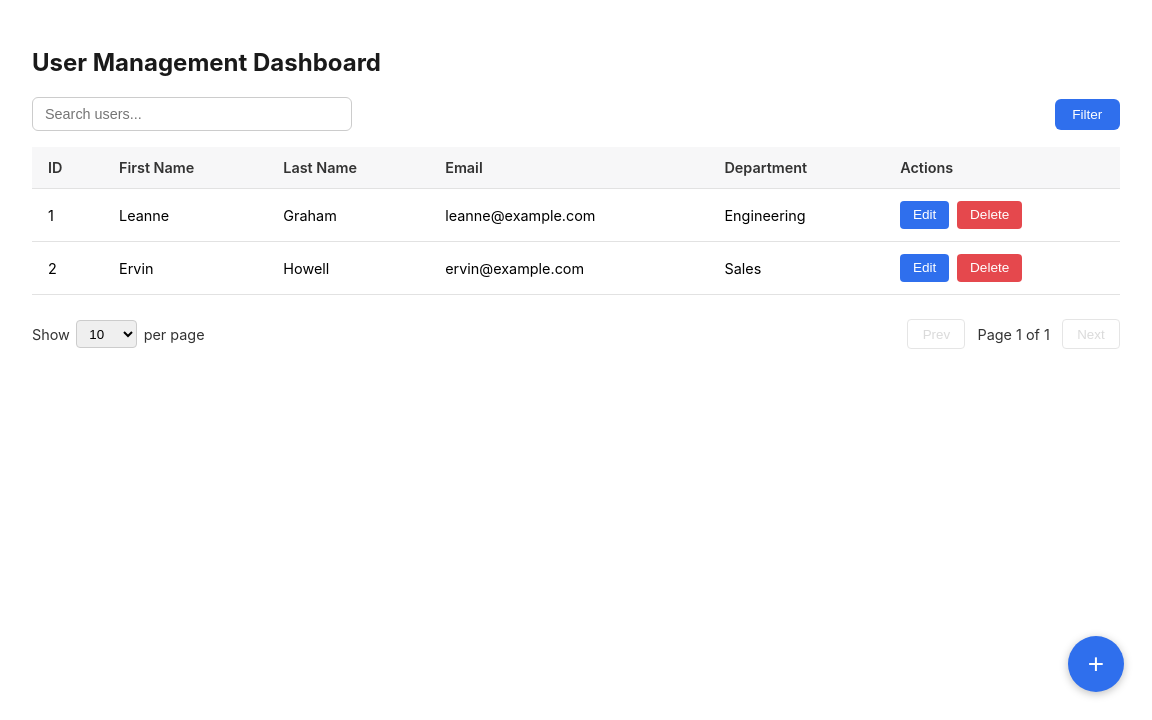
it: App - Filter › closes the popup without changing the table when Cancel is clicked
Click the button "Filter" at (1087, 114), box [1055,99,1120,130]
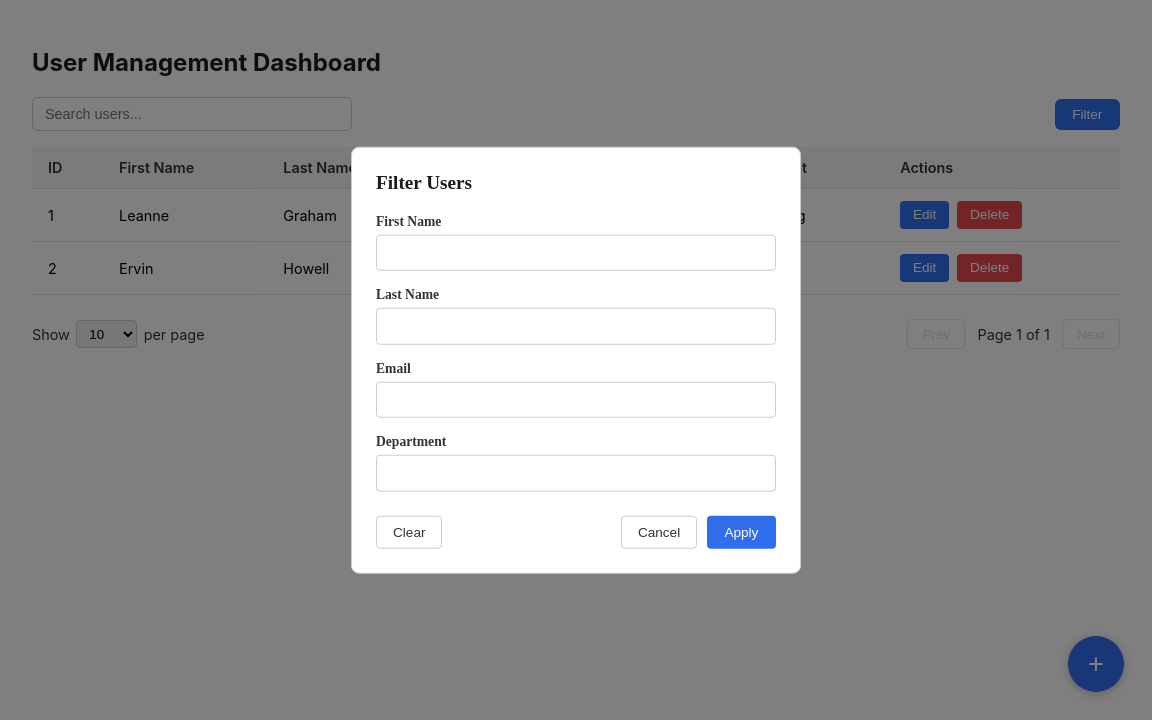
Type "Sales" into the field labelled "Department" at (576, 473), box [376,455,776,491]
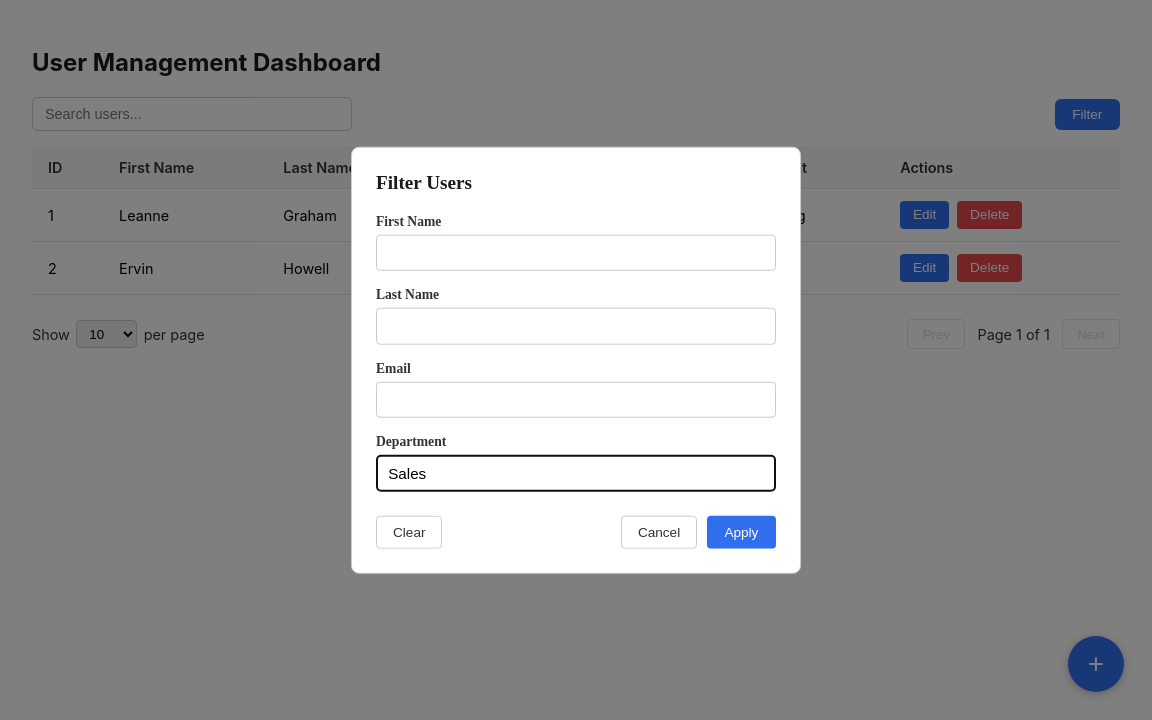
Click the button "Cancel" at (659, 532), box [621,515,697,548]
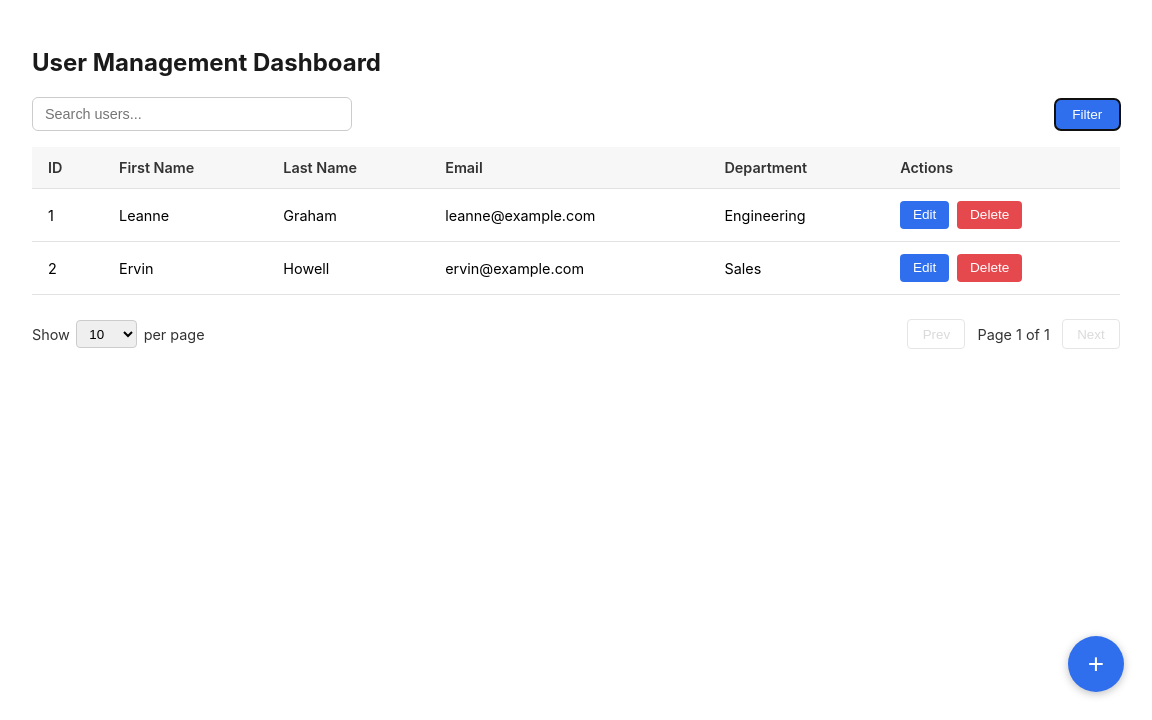
expect the text "Leanne" is shown: met, box [103,189,267,242]
expect the heading "Filter Users" is gone: met
